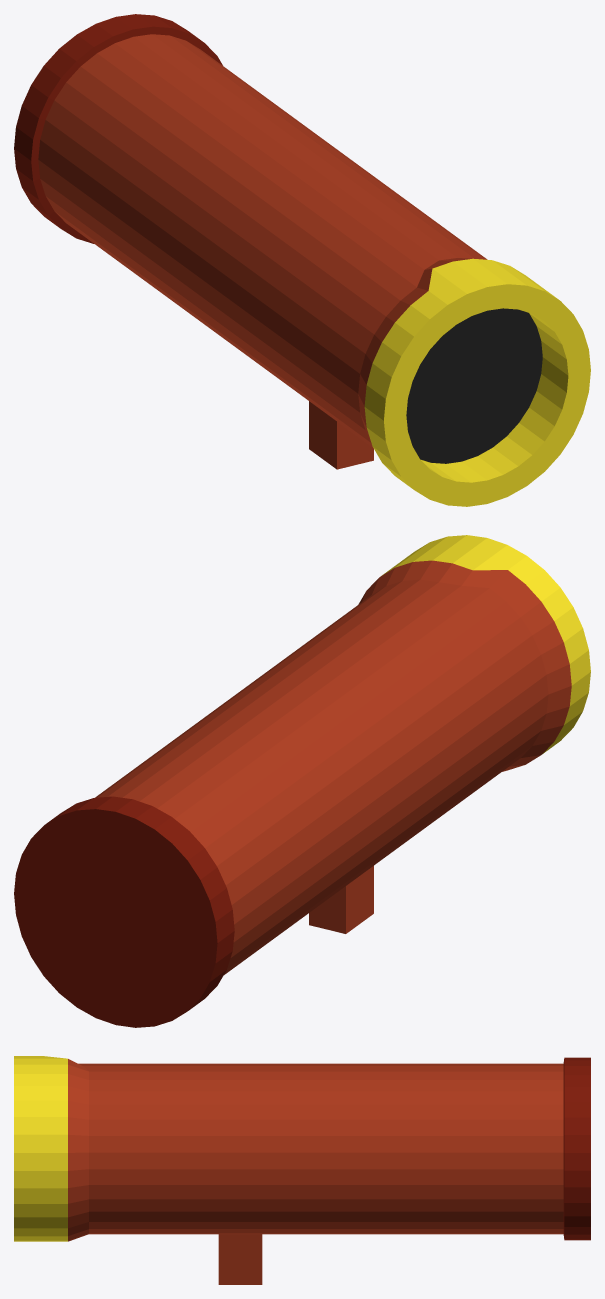
Rendered from bazooka.glb.
3 views of the same model, one above another, from view 1: azimuth 30°, elevation 25°; view 2: azimuth 150°, elevation 25°; view 3: azimuth 270°, elevation 25° (orthographic). The views are drawn at different scales.
Parts seen in each view (by area): view 1: mesh; view 2: mesh; view 3: mesh.
Part boxes in pixels (left/top/right/bottom): mesh: left=14, top=14, right=590, bottom=506; mesh: left=14, top=535, right=590, bottom=1027; mesh: left=14, top=1056, right=590, bottom=1284.
Size of the model in its own units: 0.3189 by 0.4039 by 0.9909.
Materials: 1 (1 with a texture image).
